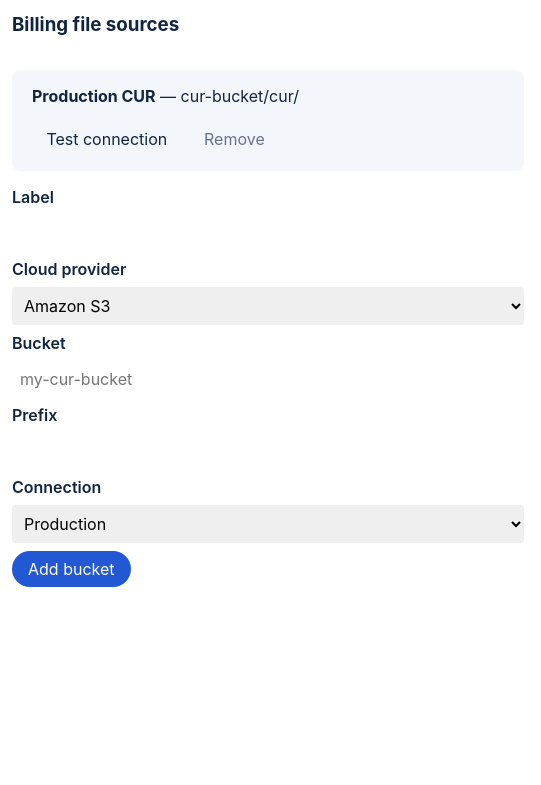
Test case: BillingFileSourcesPanel › testing a bucket › names the header each field resolved to, and the ones absent
Step 1. Click the button "Test connection" → (107, 139), box [32,122,182,155]
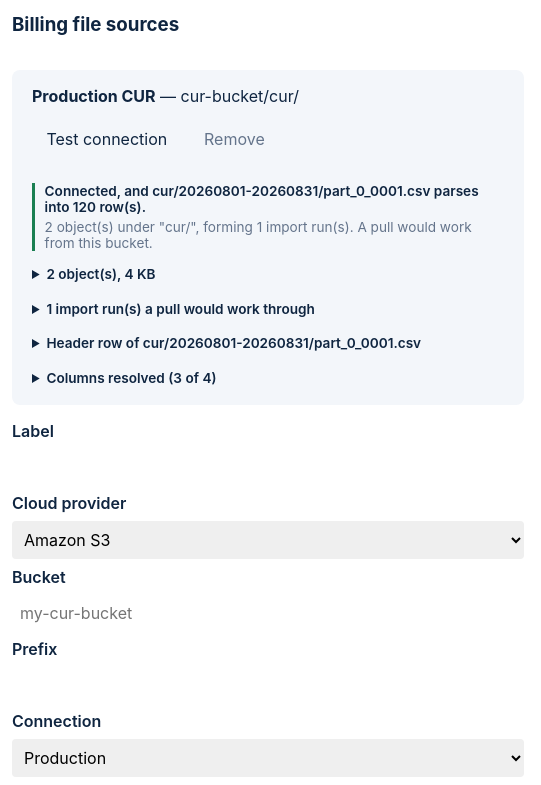
Expected: the text "parses into 120 row(s)" is shown, [45,183,479,215]
Step 2. Click the heading "Columns resolved (3 of 4)" → (132, 378), box [46,370,217,386]
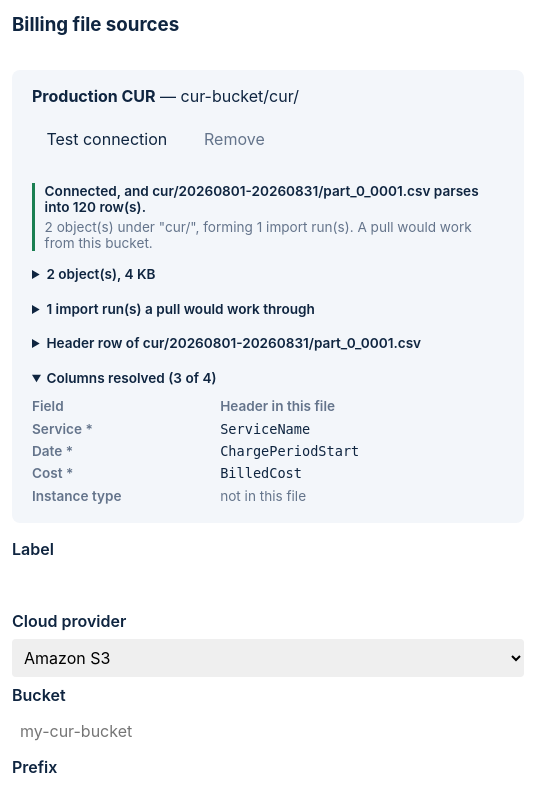
Expected: the row "Date * ChargePeriodStart" is shown, [32,440,504,462]
Expected: the row "Instance type not in this file" is shown, [32,485,504,507]
